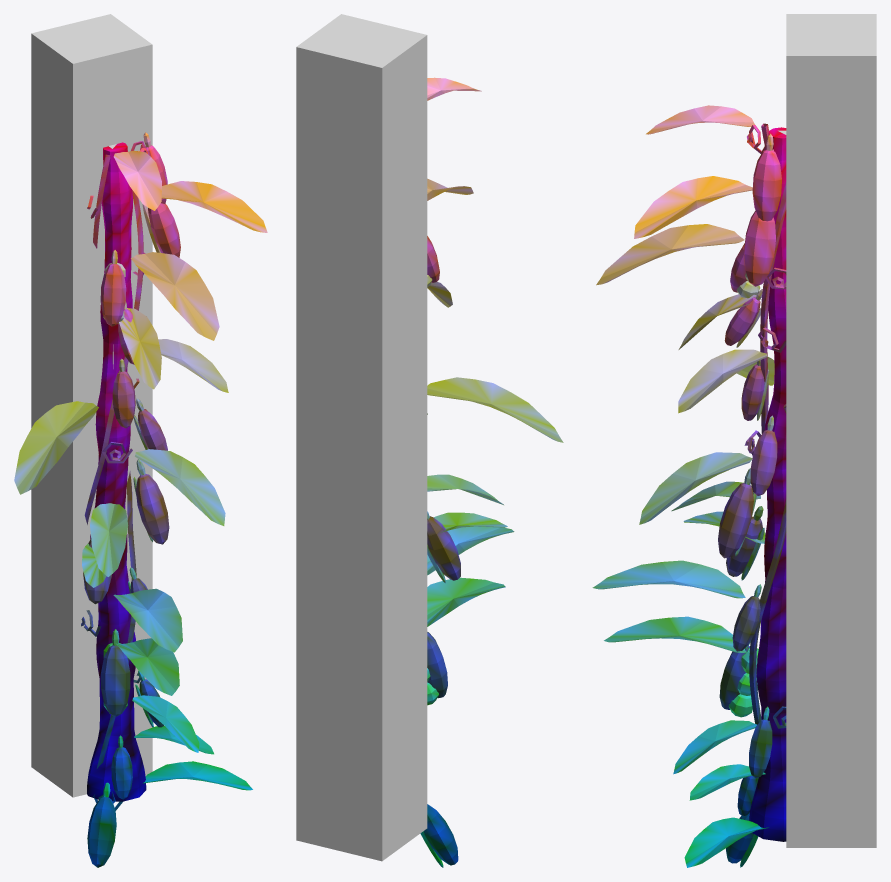
The model's file is Plant_Ladder_01.fbx.
The picture shows the model from 3 angles, left to right: view 1: azimuth 30°, elevation 25°; view 2: azimuth 150°, elevation 25°; view 3: azimuth 270°, elevation 25°; orthographic projection. The views are drawn at different scales.
Parts seen in each view (by area): view 1: CLIMB_0, Plant_Ladder_01; view 2: CLIMB_0, Plant_Ladder_01; view 3: CLIMB_0, Plant_Ladder_01.
Part boxes in pixels (bbox=[...]): CLIMB_0: bbox=[31, 14, 152, 797]; Plant_Ladder_01: bbox=[14, 132, 267, 867]; CLIMB_0: bbox=[296, 14, 427, 861]; Plant_Ladder_01: bbox=[420, 77, 563, 867]; CLIMB_0: bbox=[786, 14, 876, 847]; Plant_Ladder_01: bbox=[592, 105, 786, 867].
Size of the model in its own units: 3.1 by 10.41 by 3.15.
